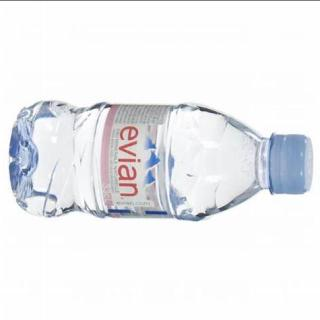Anorganik: (4, 92, 317, 228)
